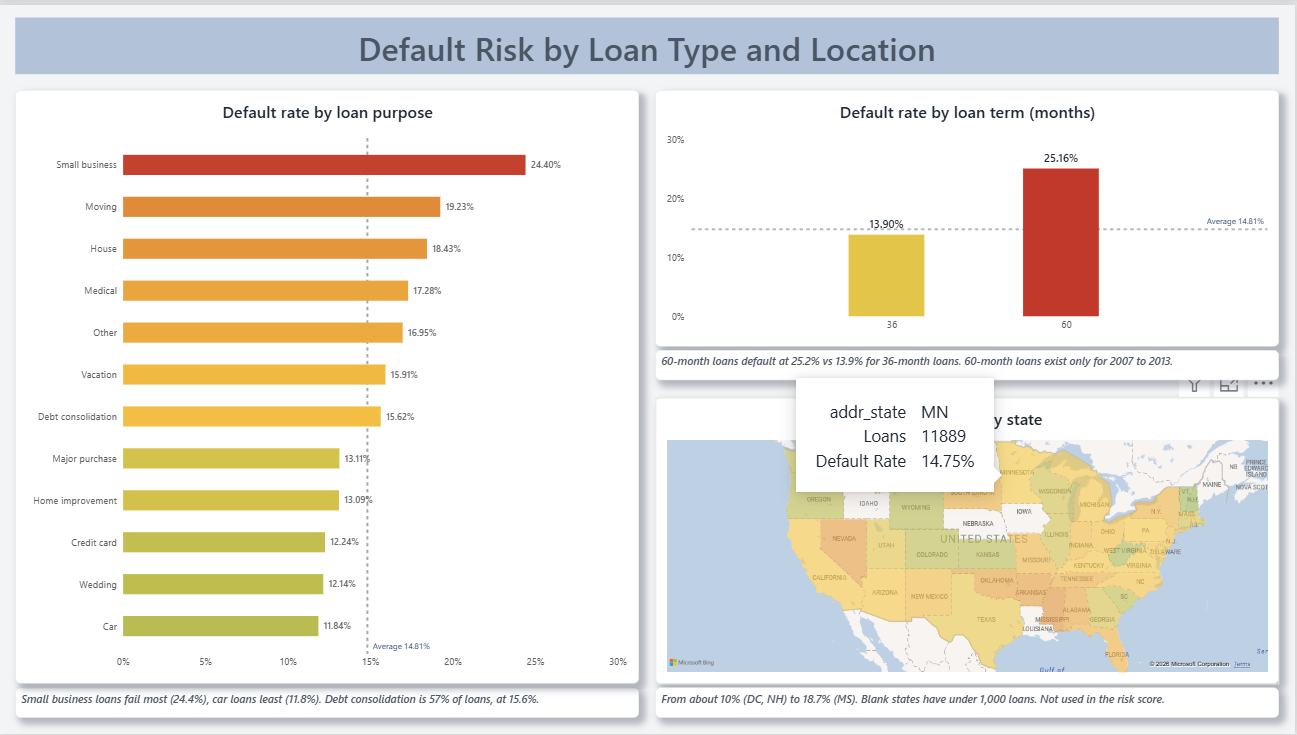

The dashboard page shown, as its layout file describes it:
{"tool":"powerbi","page":{"name":"Loan Type and Location","canvas":[1920,1080],"ordinal":2},"visuals":[{"type":"textbox","box":[24,18,1872,84],"z":0},{"type":"textbox","box":[24,1011,924,45],"z":1000},{"type":"clusteredBarChart","title":"Default rate by loan purpose","fields":{"Category":["loans_dashboard.purpose_label"],"Y":["loans_dashboard.Default Rate"]},"box":[24,126,924,879],"z":2000},{"type":"clusteredColumnChart","title":"Default rate by loan term (months)","fields":{"Category":["loans_dashboard.term_months"],"Y":["loans_dashboard.Default Rate"]},"box":[972,126,924,380],"z":3000},{"type":"filledMap","title":"Default rate by state","fields":{"Category":["loans_dashboard.addr_state"]},"box":[972,581,924,424],"z":4000},{"type":"textbox","box":[972.2,512,924,45],"z":5000},{"type":"textbox","box":[972.2,1011.1,924,45],"z":6000}]}

Visuals, with their boxes in screenshot pixels (x1, y1, x2, y2), scaled from the page's 1920x1080 canvas onto the 1297x735 screenshot:
textbox: <region>16, 12, 1281, 69</region>
textbox: <region>16, 688, 640, 719</region>
"Default rate by loan purpose" clusteredBarChart: <region>16, 86, 640, 684</region>
"Default rate by loan term (months)" clusteredColumnChart: <region>657, 86, 1281, 344</region>
"Default rate by state" filledMap: <region>657, 395, 1281, 684</region>
textbox: <region>657, 348, 1281, 379</region>
textbox: <region>657, 688, 1281, 719</region>
